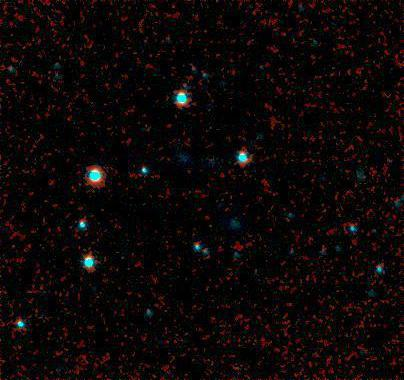star: (102, 243, 132, 273)
